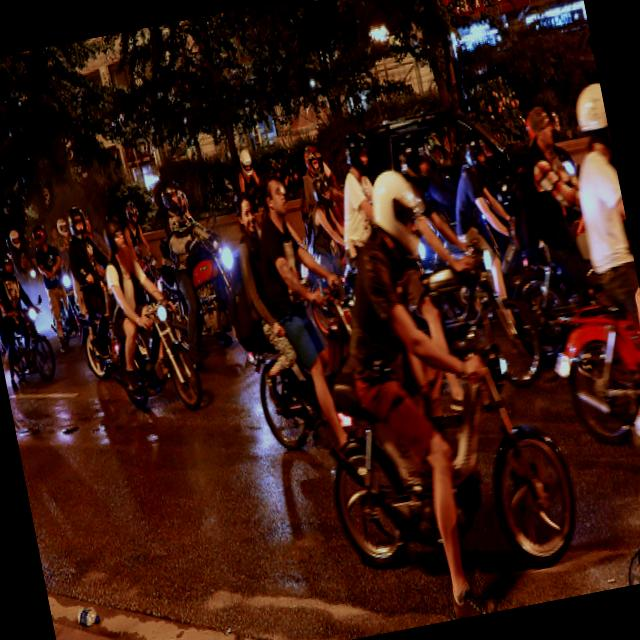Vehicle: (316, 348, 586, 602), (356, 84, 584, 236), (235, 276, 382, 455), (420, 252, 550, 404), (146, 206, 254, 356), (494, 210, 592, 370), (545, 295, 640, 453), (104, 294, 204, 422), (296, 240, 363, 342), (1, 294, 58, 388), (41, 267, 88, 351), (74, 310, 112, 380)
